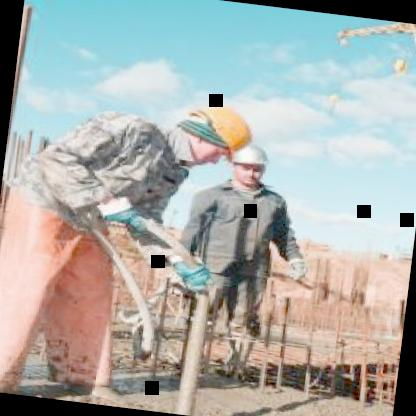helmet: (168, 92, 258, 171), (229, 138, 271, 186)
